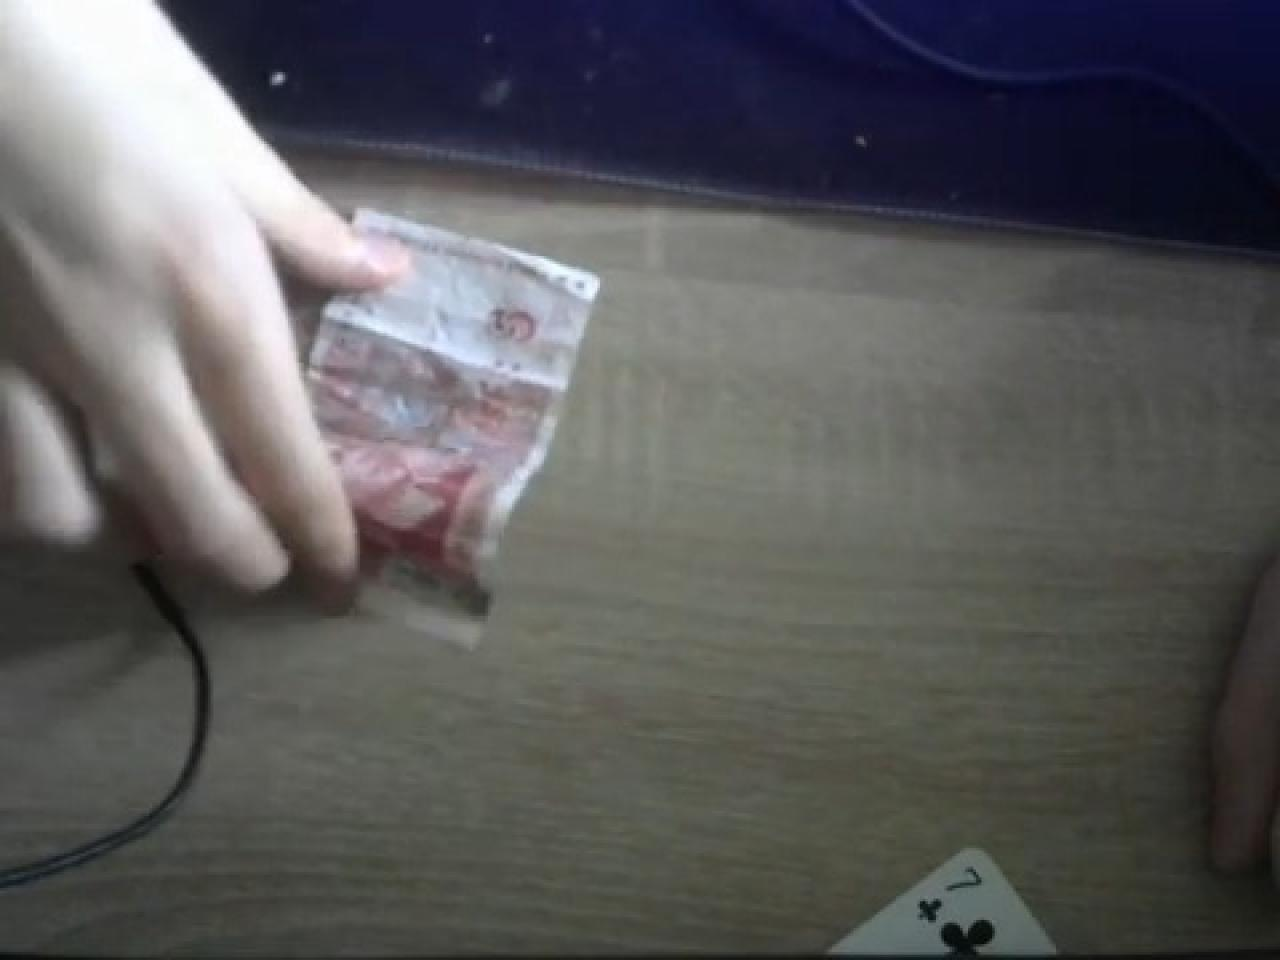5leva: (304, 211, 600, 645)
